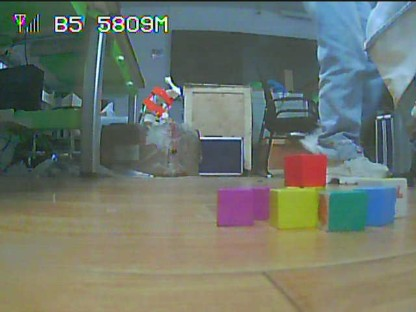b: (365, 188, 393, 222)
g: (327, 193, 364, 229)
r: (286, 157, 327, 184)
